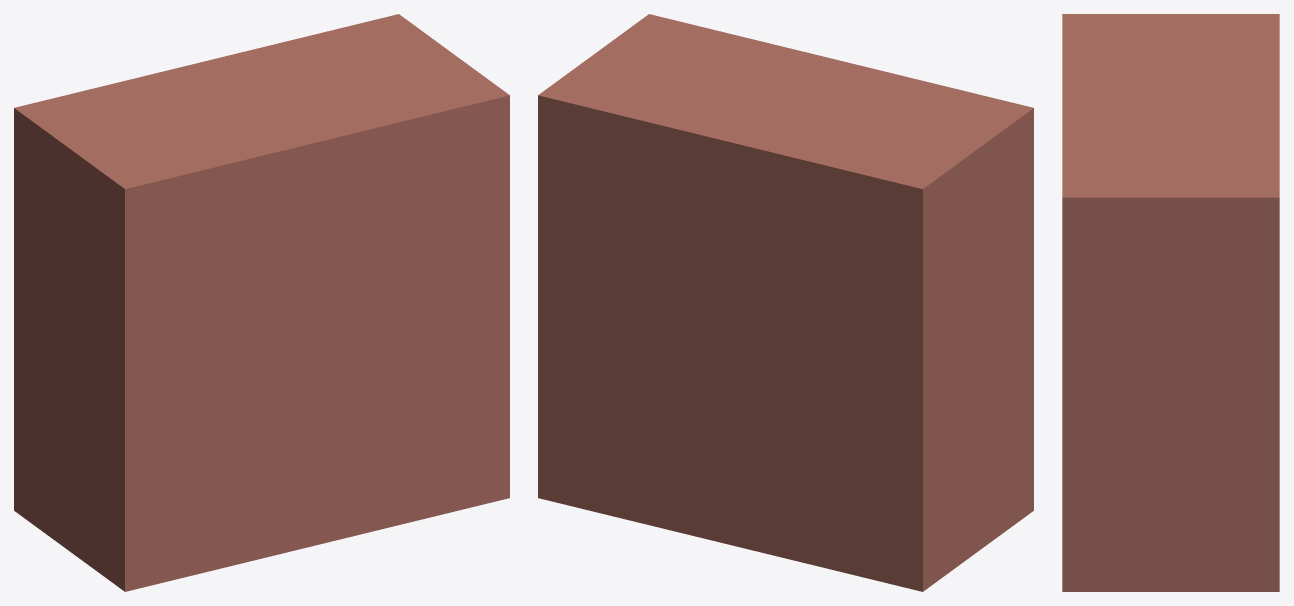
The model's file is Hazard_VerticalSlab.glb.
The picture shows the model from 3 angles, left to right: view 1: azimuth 30°, elevation 25°; view 2: azimuth 150°, elevation 25°; view 3: azimuth 270°, elevation 25°; orthographic projection. The views are drawn at different scales.
Visible parts, largest first — view 1: Hazard_VerticalSlab_body; view 2: Hazard_VerticalSlab_body; view 3: Hazard_VerticalSlab_body.
Part boxes in pixels (x1,y1,x2,y2): Hazard_VerticalSlab_body: [14, 14, 509, 591]; Hazard_VerticalSlab_body: [538, 14, 1033, 591]; Hazard_VerticalSlab_body: [1062, 14, 1279, 591].
Bounding box in the file's own units: 1 × 1 × 0.5.
